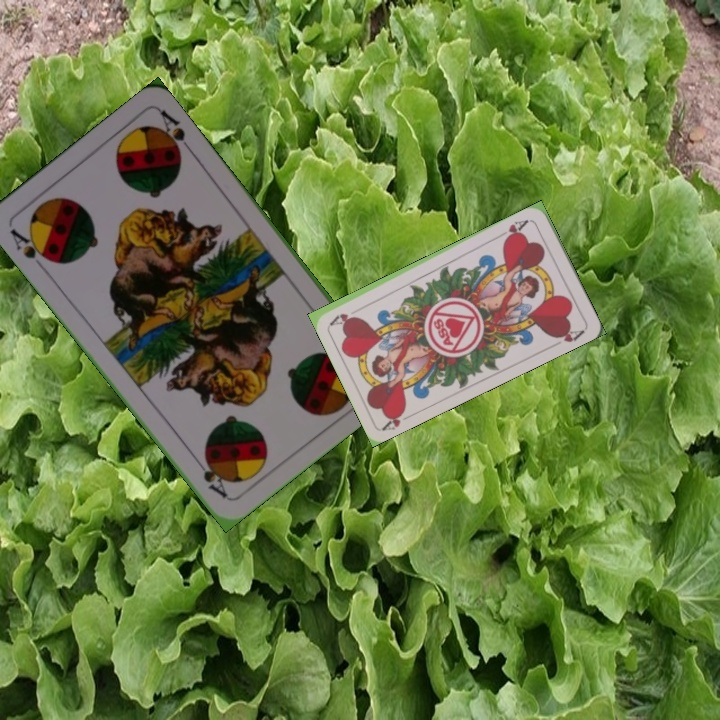HA: (379, 405, 418, 433), (499, 215, 533, 244)
SA: (5, 224, 56, 273)
